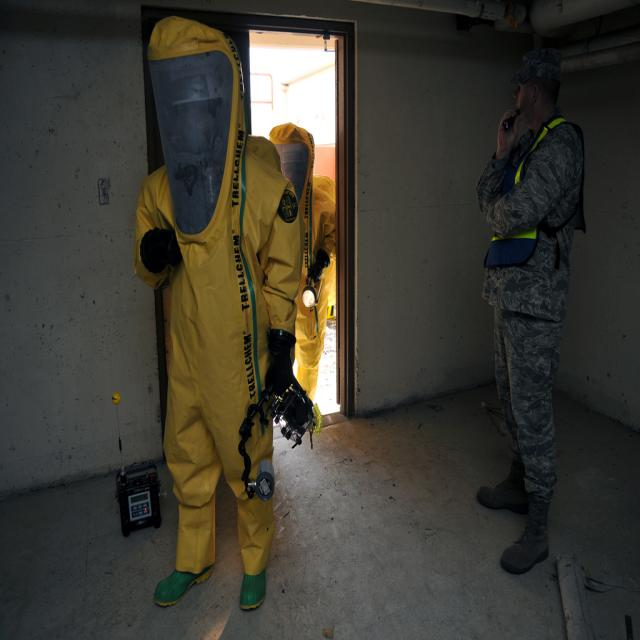no_fire: (119, 48, 585, 562)
